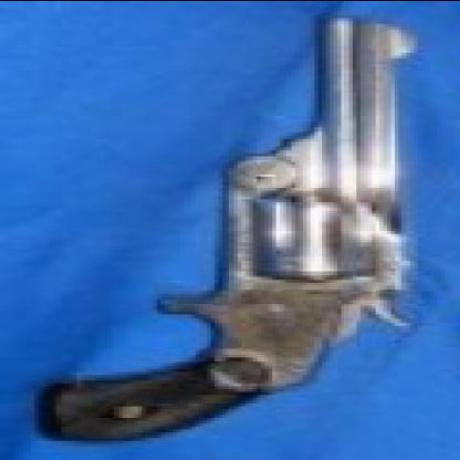weapon: (40, 10, 427, 446)
